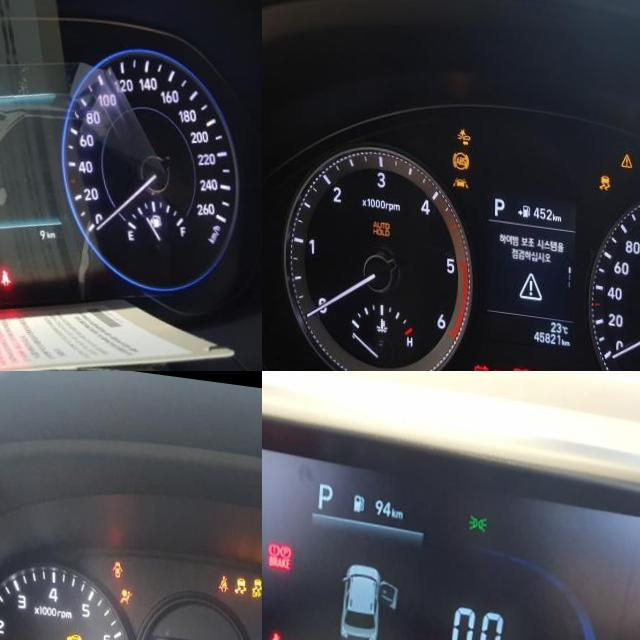Central Warning lamp: (622, 141, 633, 156)
LaneCenteringOff: (453, 168, 470, 182)
SideLamp: (467, 500, 487, 520)
